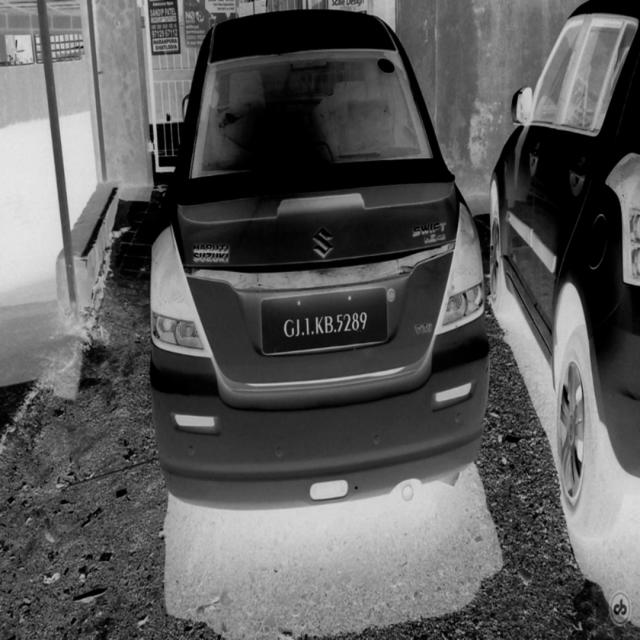Non_registered: (262, 296, 388, 348)
